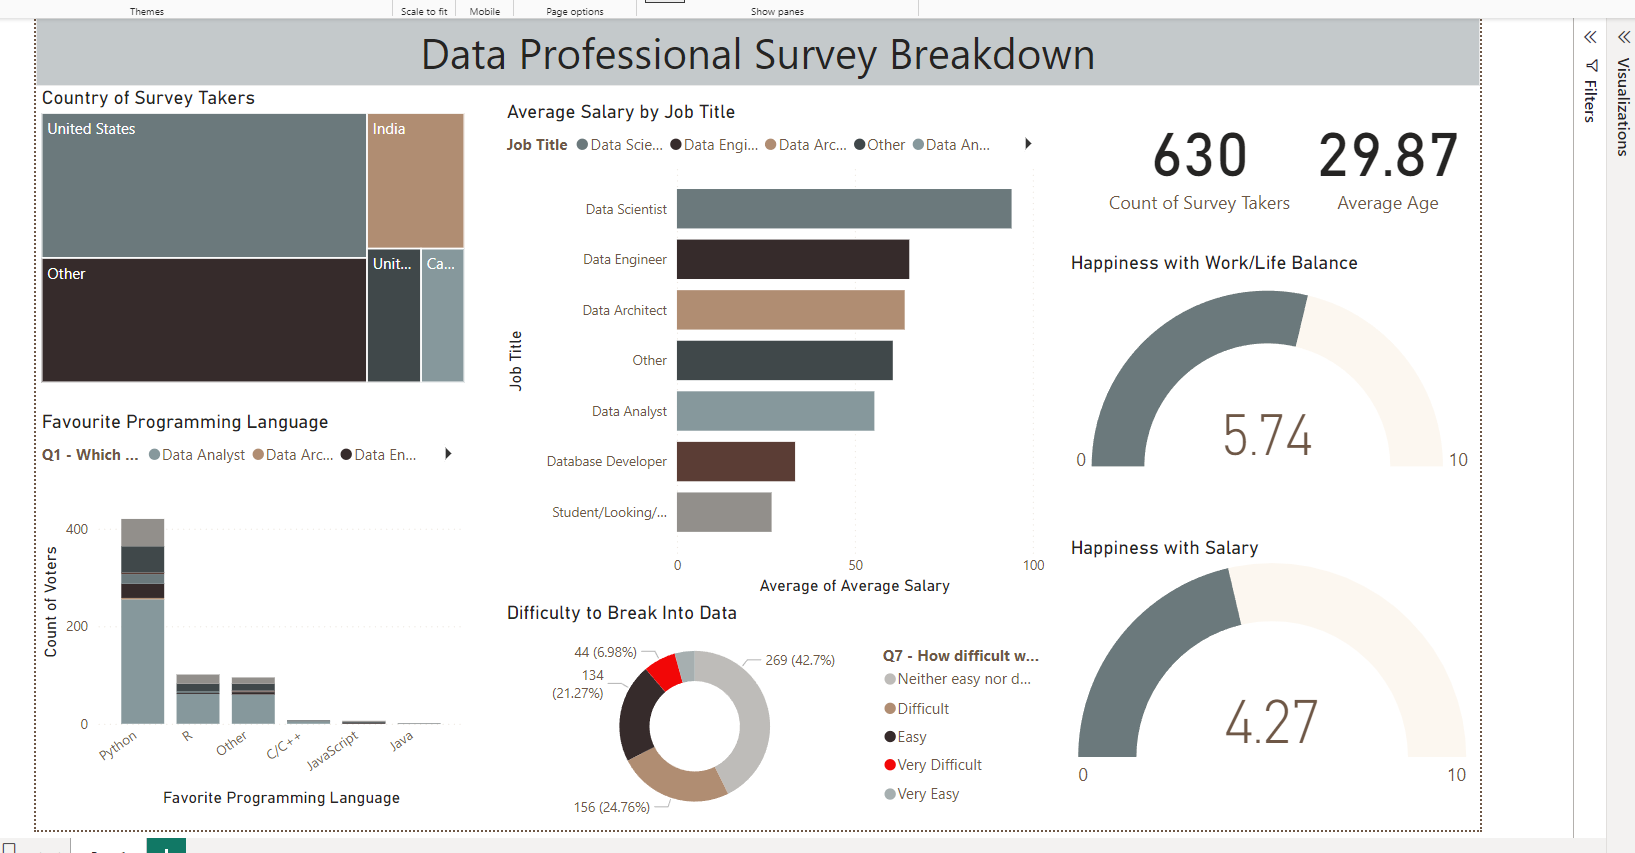

This screenshot's page, from the dashboard's own definition file:
{"tool":"powerbi","page":{"name":"Page 1","canvas":[1280,720],"ordinal":0},"visuals":[{"type":"textbox","box":[0,0,1280.4,60.3],"z":0},{"type":"card","fields":{"Values":["Count(Data Professional Survey.Unique ID)"]},"box":[928.9,60.5,204.9,129.1],"z":1000},{"type":"card","fields":{"Values":["Avg(Data Professional Survey.Q10 - Current Age)"]},"box":[1117.2,60.3,163.2,129.5],"z":2000},{"type":"barChart","title":"Average Salary by Job Title","fields":{"Category":["Data Professional Survey.Q1 - Which Title Best Fits your Current Role?.1"],"Y":["Avg(Data Professional Survey.Average Salary)"],"Series":["Data Professional Survey.Q1 - Which Title Best Fits your Current Role?.1"]},"box":[412.5,73.1,486.5,444.1],"z":3000},{"type":"columnChart","title":"Favourite Programming Language","fields":{"Category":["Data Professional Survey.Q5 - Favorite Programming Language.1"],"Y":["CountNonNull(Data Professional Survey.Unique ID)"],"Series":["Data Professional Survey.Q1 - Which Title Best Fits your Current Role?.1"]},"box":[0,347.5,384.5,356.6],"z":4000},{"type":"treemap","title":"Country of Survey Takers","fields":{"Group":["Data Professional Survey.Q11 - Which Country do you live in?.1"],"Values":["CountNonNull(Data Professional Survey.Q11 - Which Country do you live in?.1)"]},"box":[0,60.3,384.8,267.8],"z":5000},{"type":"gauge","title":" Happiness with Work/Life Balance","fields":{"Y":["Avg(Data Professional Survey.Q6 - How Happy are you in your Current Position with the following? (Work/Life Balance))"],"MinValue":["Min(Data Professional Survey.Q6 - How Happy are you in your Current Position with the following? (Work/Life Balance))"],"MaxValue":["Max(Data Professional Survey.Q6 - How Happy are you in your Current Position with the following? (Work/Life Balance))"]},"box":[912.6,206.7,367.4,212.1],"z":6000},{"type":"gauge","title":"Happiness with Salary","fields":{"Y":["Avg(Data Professional Survey.Q6 - How Happy are you in your Current Position with the following? (Salary))"],"MinValue":["Min(Data Professional Survey.Q6 - How Happy are you in your Current Position with the following? (Salary))"],"MaxValue":["Max(Data Professional Survey.Q6 - How Happy are you in your Current Position with the following? (Salary))"]},"box":[912.6,459.5,367.4,232],"z":7000},{"type":"donutChart","title":"Difficulty to Break Into Data","fields":{"Category":["Data Professional Survey.Q7 - How difficult was it for you to break into Data?"],"Y":["CountNonNull(Data Professional Survey.Q7 - How difficult was it for you to break into Data?)"]},"box":[412.5,517.2,486.5,203.1],"z":8000}]}

Visuals, with their boxes on the page's 1280x720 design canvas (x1, y1, x2, y2). These are canvas units, not pixel positions in the 1635x853 screenshot, which may show the page scaled, cropped or inside an application window:
textbox: left=0, top=0, right=1280, bottom=60
card - Count(Data Professional Survey.Unique ID): left=929, top=60, right=1134, bottom=190
card - Avg(Data Professional Survey.Q10 - Current Age): left=1117, top=60, right=1280, bottom=190
"Average Salary by Job Title" barChart: left=412, top=73, right=899, bottom=517
"Favourite Programming Language" columnChart: left=0, top=348, right=384, bottom=704
"Country of Survey Takers" treemap: left=0, top=60, right=385, bottom=328
" Happiness with Work/Life Balance" gauge: left=913, top=207, right=1280, bottom=419
"Happiness with Salary" gauge: left=913, top=460, right=1280, bottom=692
"Difficulty to Break Into Data" donutChart: left=412, top=517, right=899, bottom=720
